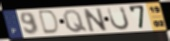7: (128, 5, 146, 31)
9: (20, 12, 40, 36)
D: (39, 10, 61, 36)
N: (81, 7, 109, 33)
Q: (62, 9, 89, 34)
U: (106, 6, 131, 32)
